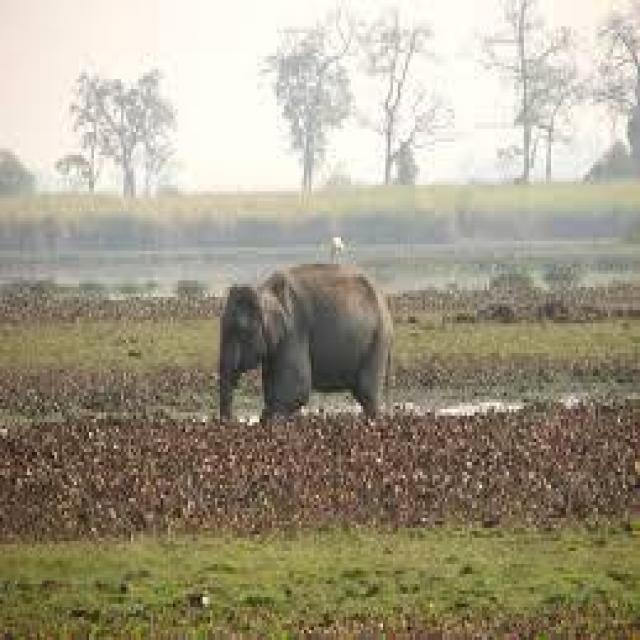Elephant: (217, 264, 393, 419)
